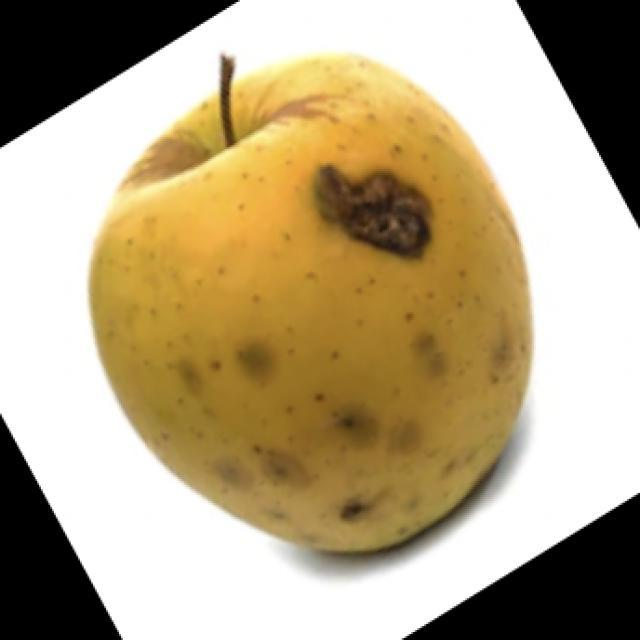Rotten: (116, 72, 546, 560)
